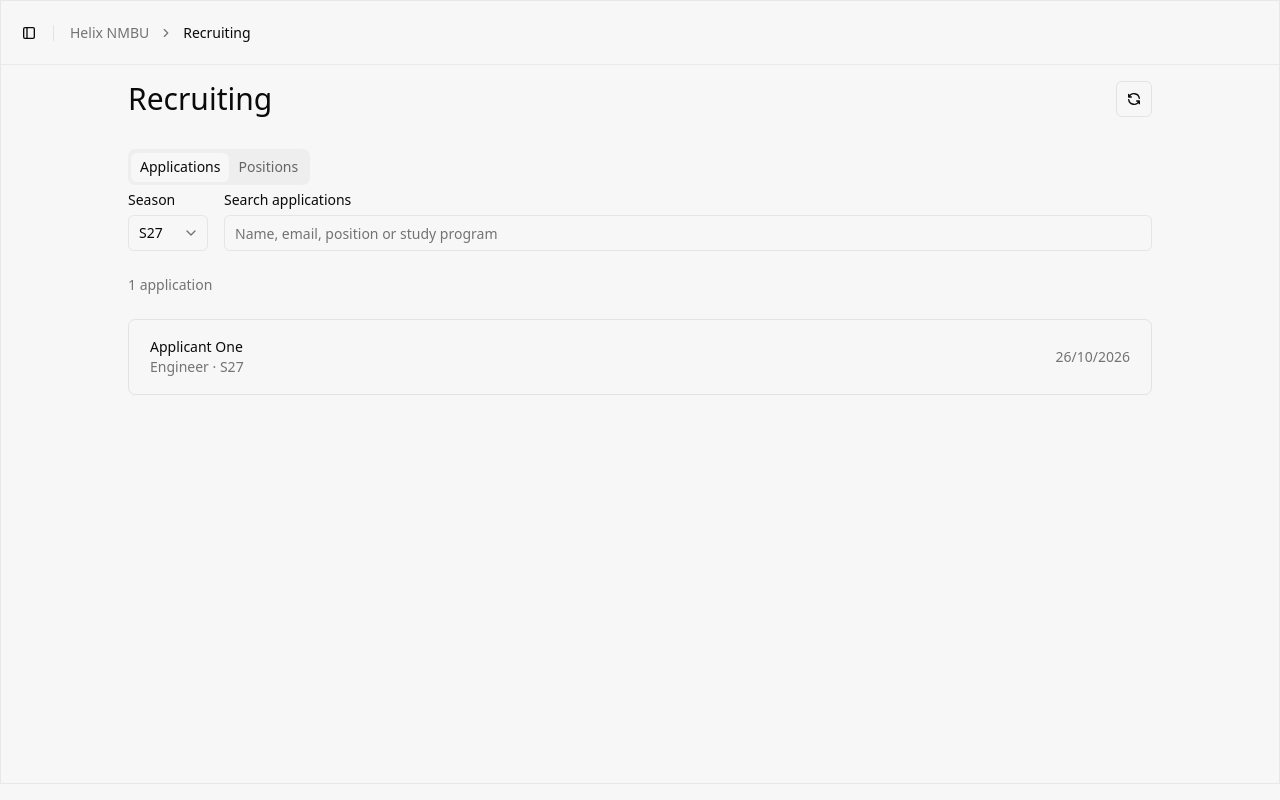
it: internal member platform › preloads once at login and retains data and access across navigation and focus
Step 1. Click the button named "Refresh applications" → (1134, 99), box [1116,81,1152,117]
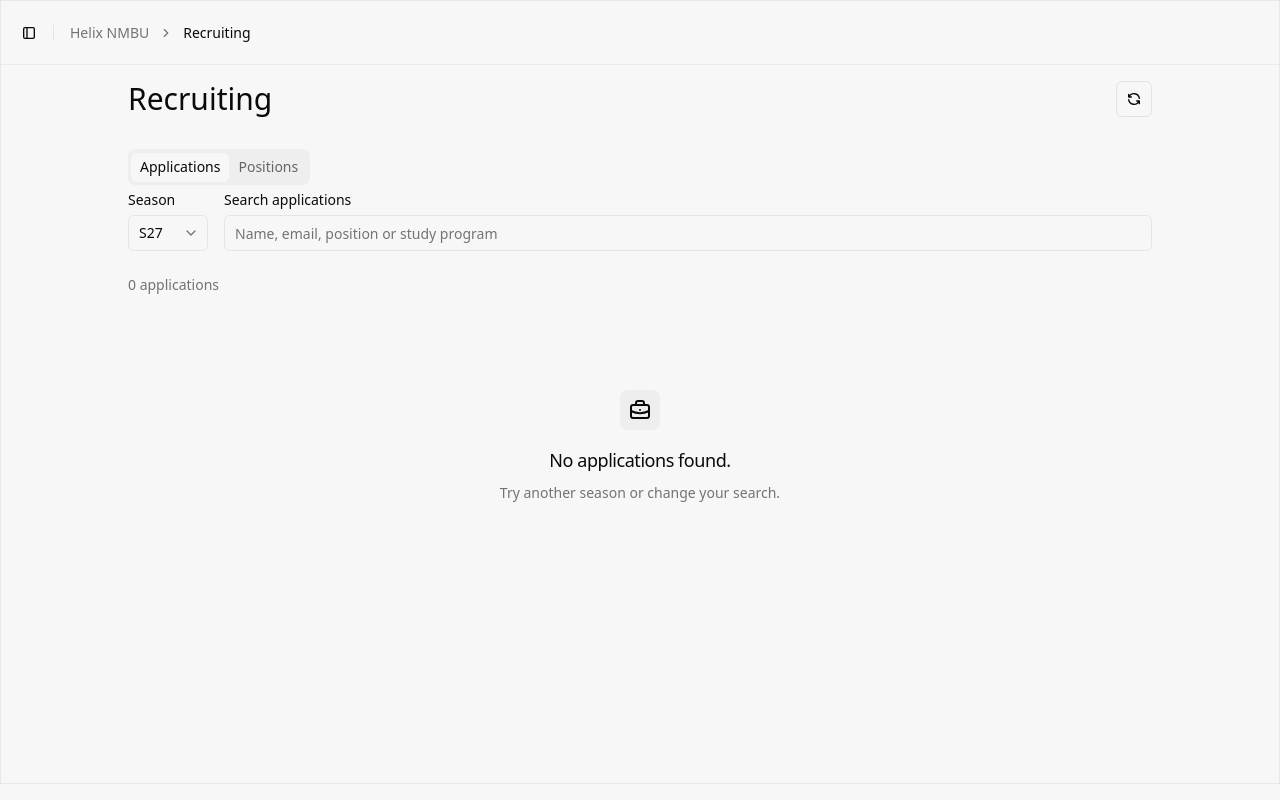
Now the text "Applicant One" is gone
